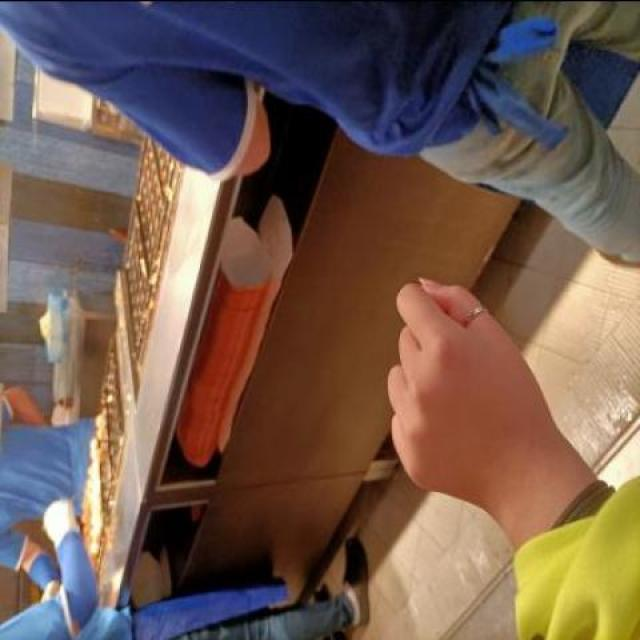Closed Hand: (351, 268, 517, 509)
